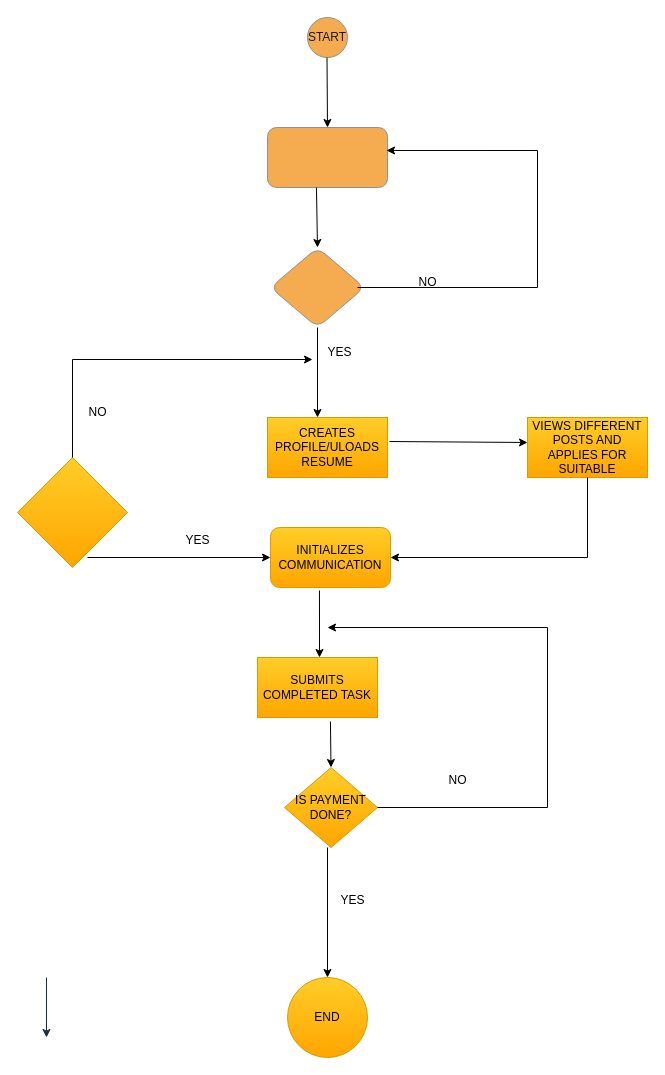
The diagram is 665 pixels wide and 1075 high, and some of its shapes have lost their labels. Here are the shapes that lost their labels. From the top down, the centre of each, then its label:
point 327,157: CLIENT LOGS IN OR SIGNS UP
point 317,287: CREDENTIALS MATCH?
point 72,512: FOUND A TASK?
